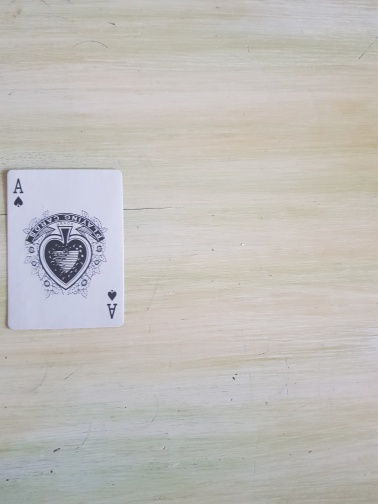ace: (6, 166, 124, 332)
